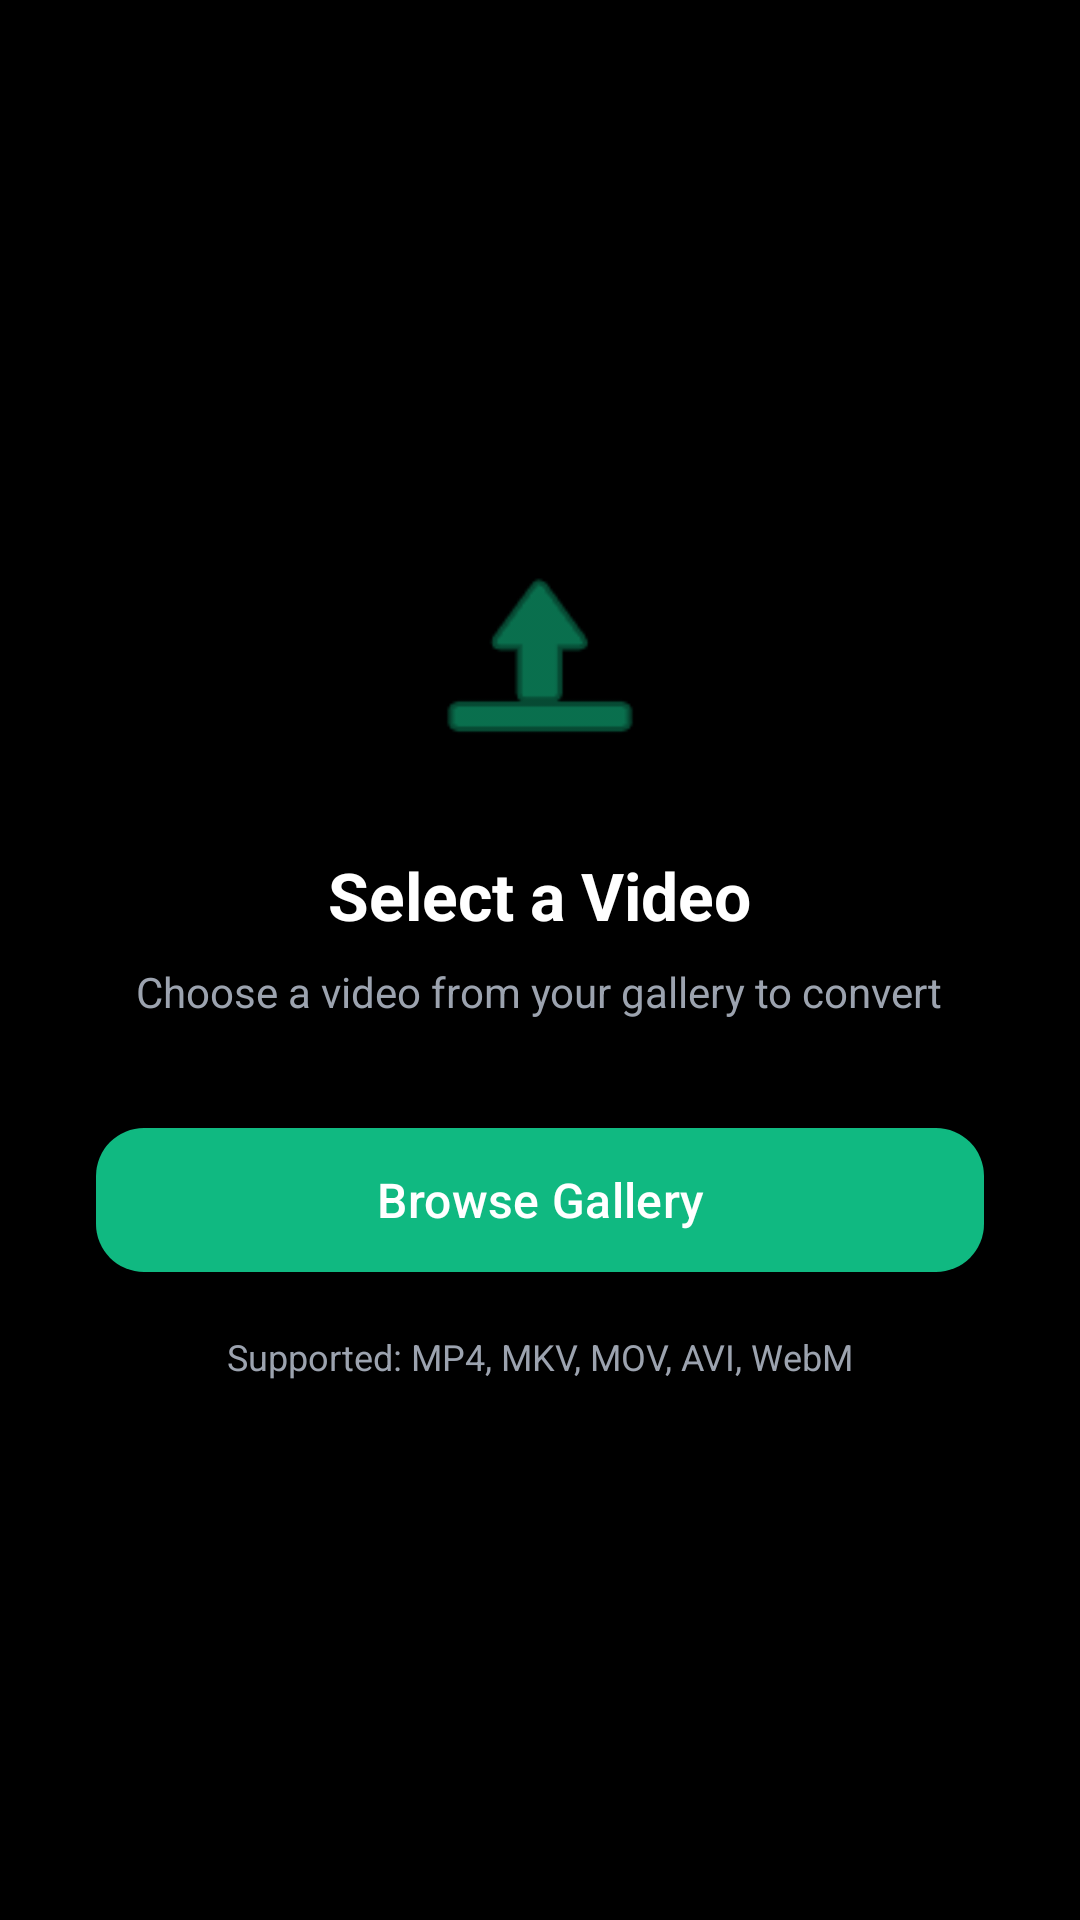

Point at icon controls on the screen. Image size 1080w x 1920h, points as [x,y].
upload: [540,655]
